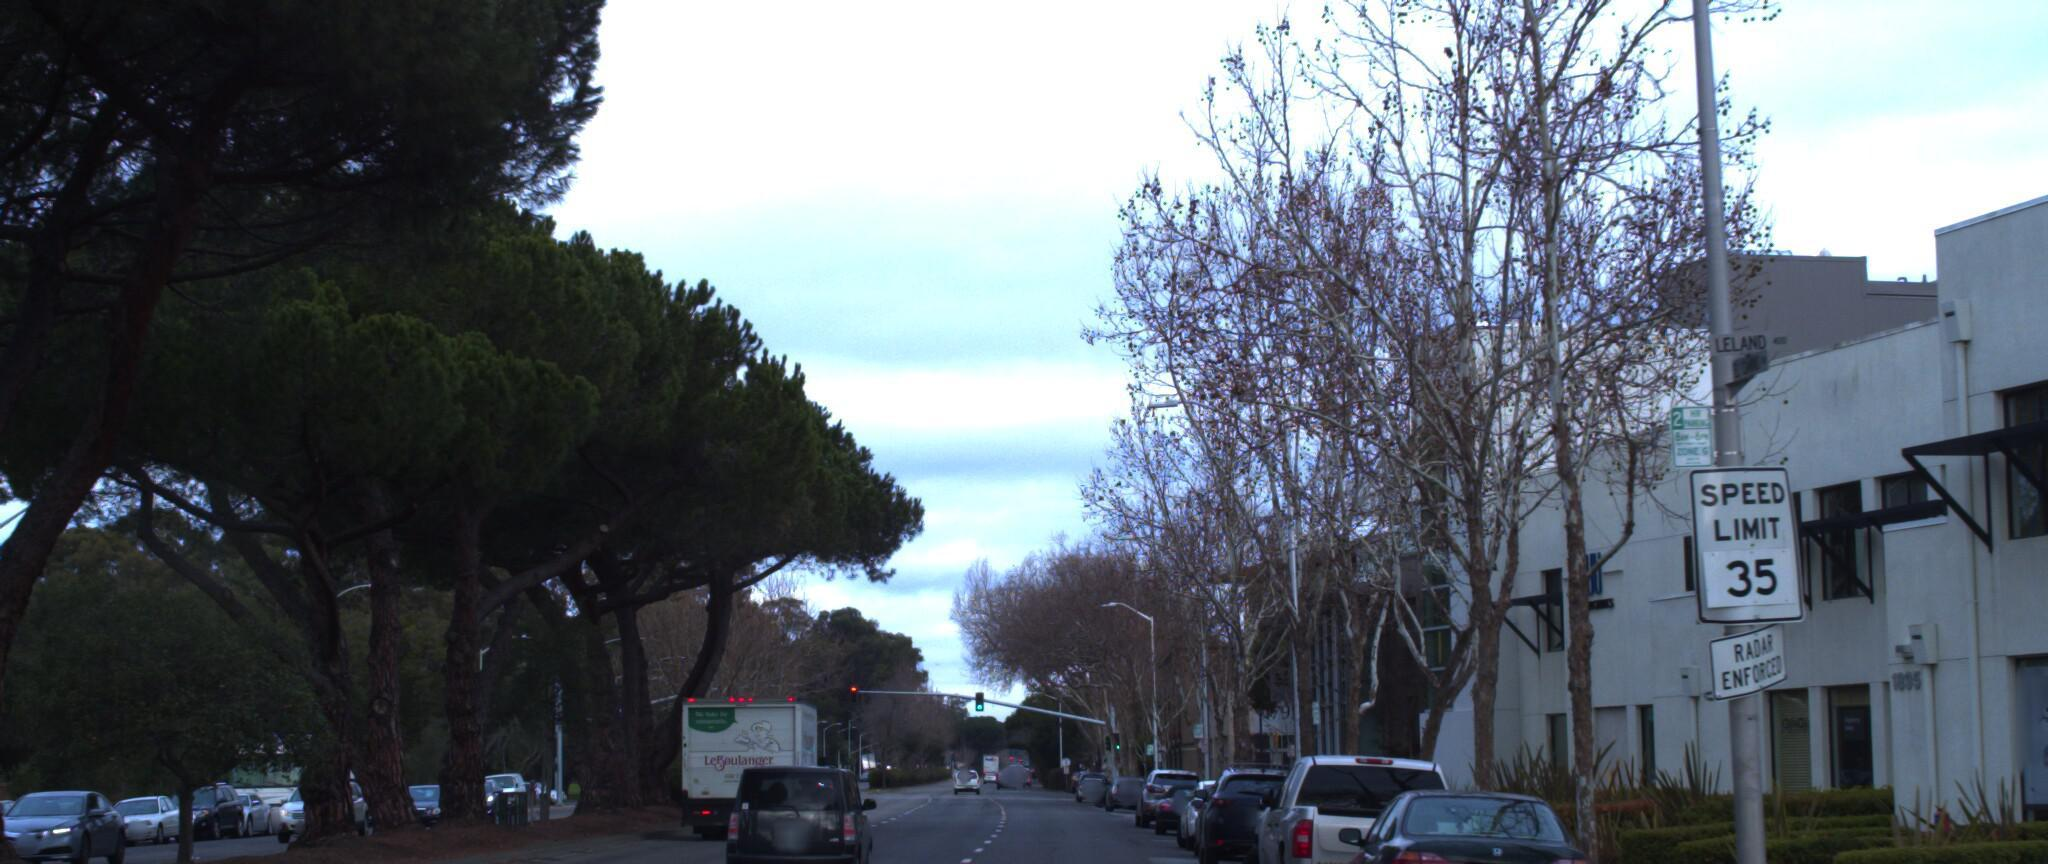car: (1245, 728, 1497, 864), (0, 640, 148, 864), (1320, 760, 1624, 864), (701, 744, 879, 864), (1194, 737, 1330, 856), (0, 773, 138, 861)
truck: (671, 680, 829, 826)
